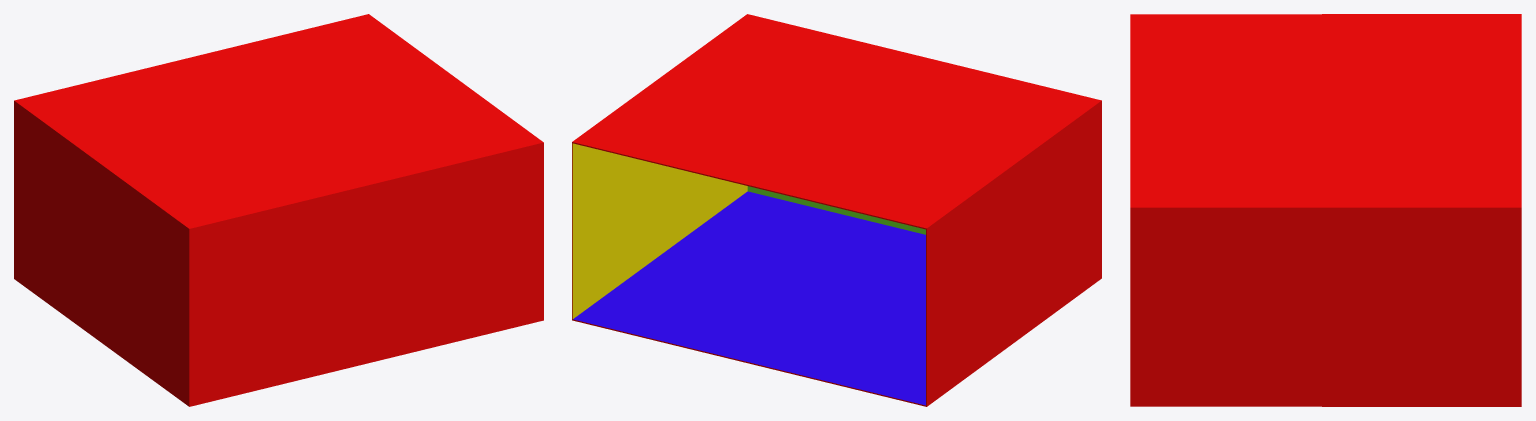
Rendered from empty shop.fbx.
The picture shows the model from 3 angles, left to right: view 1: azimuth 30°, elevation 25°; view 2: azimuth 150°, elevation 25°; view 3: azimuth 270°, elevation 25°; orthographic projection. The views are drawn at different scales.
Parts seen in each view (by area): view 1: Shop; view 2: Shop; view 3: Shop.
Part boxes in pixels (box(x1,y1,x2,y2)): Shop: box(14, 14, 543, 406); Shop: box(572, 14, 1101, 406); Shop: box(1130, 14, 1521, 406).
Bounding box in the file's own units: 13.51 × 6.5 × 11.56.
